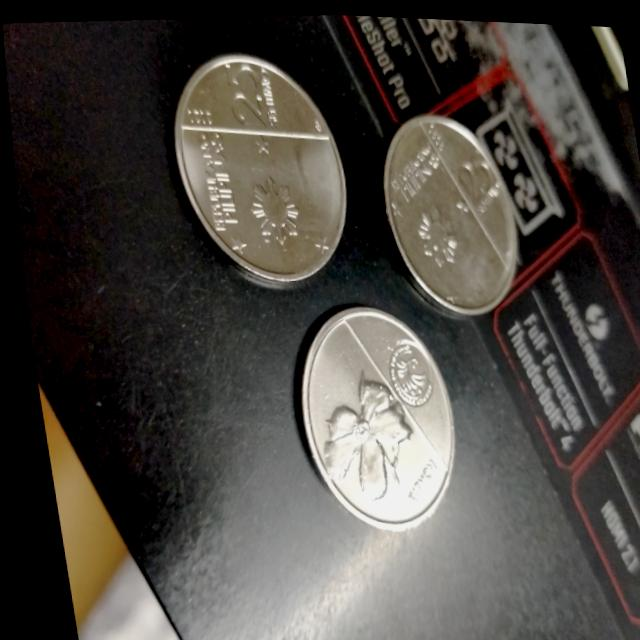25Cent_New_Back: (296, 326, 450, 508)
25Cent_New_Front: (178, 52, 306, 270)
